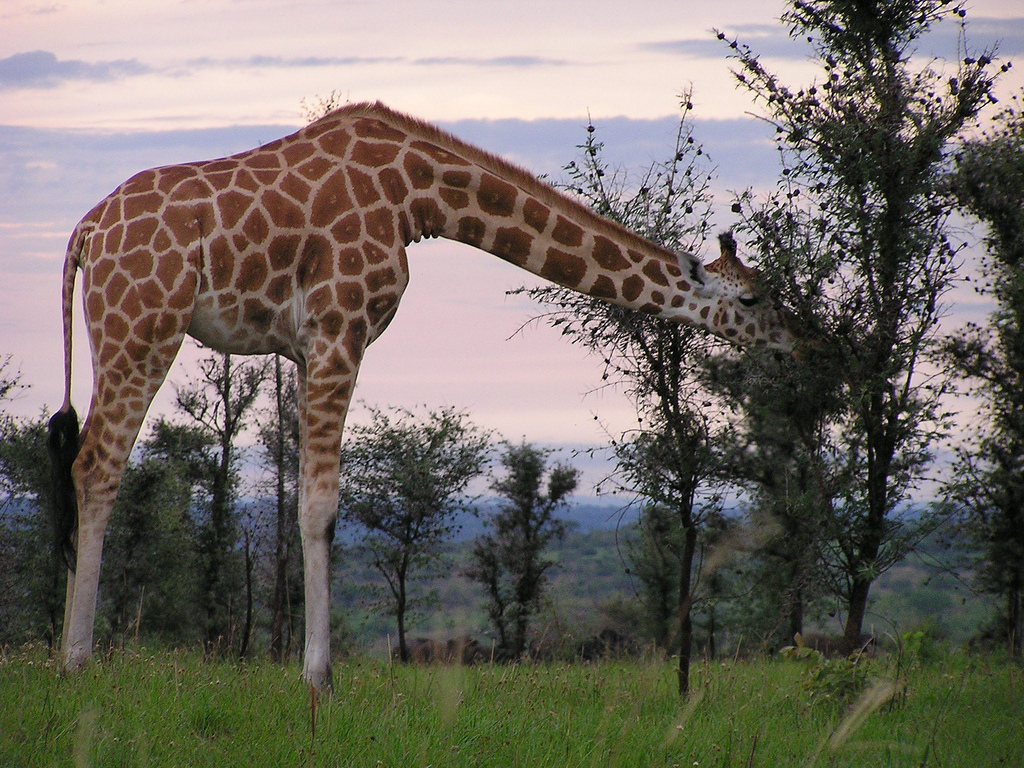giraffe: (64, 111, 825, 697)
